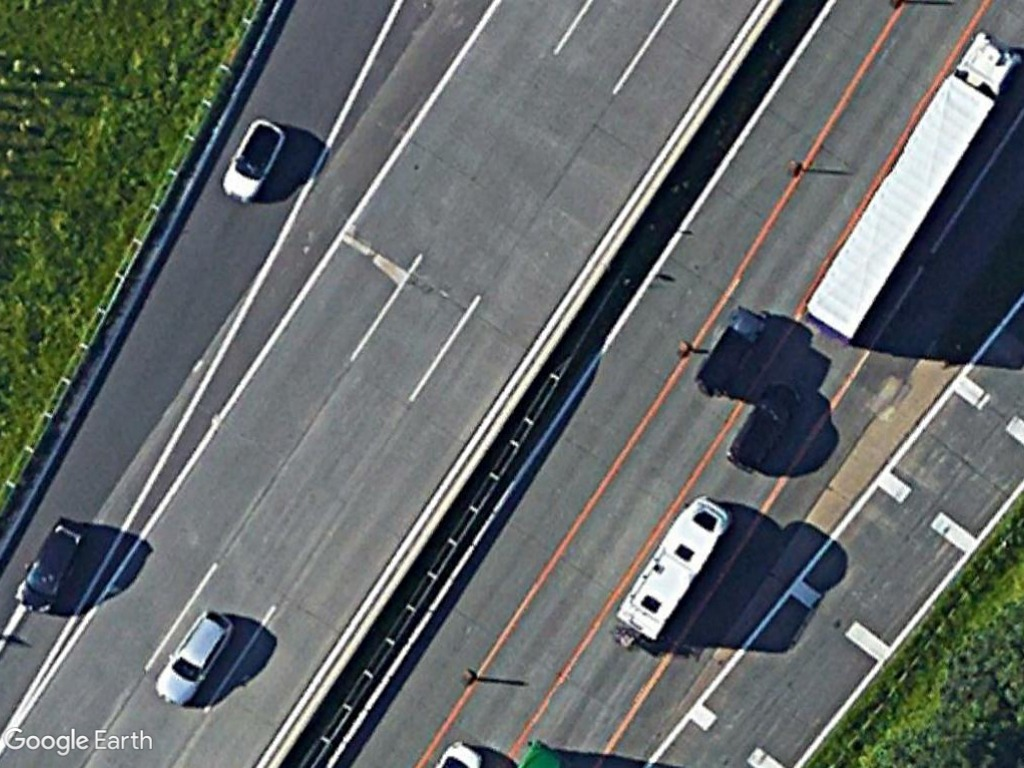car: (151, 603, 238, 716), (10, 509, 87, 620), (217, 109, 289, 207)
longvehicle: (797, 27, 1019, 348)
